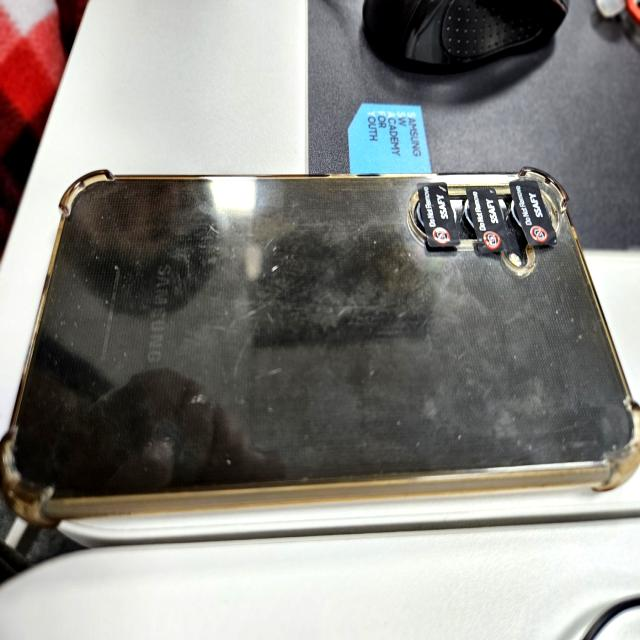phone: (3, 156, 640, 520)
sticker: (508, 176, 559, 251), (414, 175, 462, 254), (466, 179, 510, 259)
